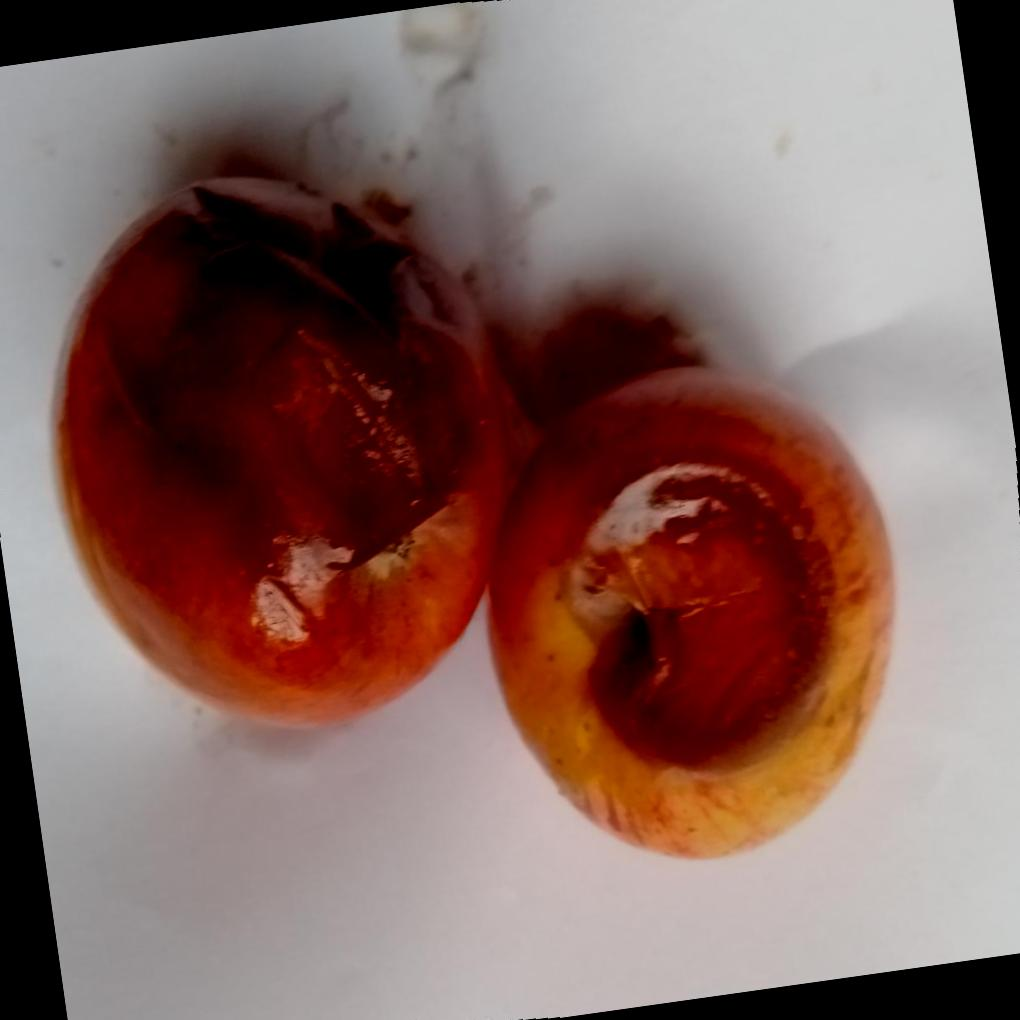FreshOrange: (47, 174, 895, 863)
